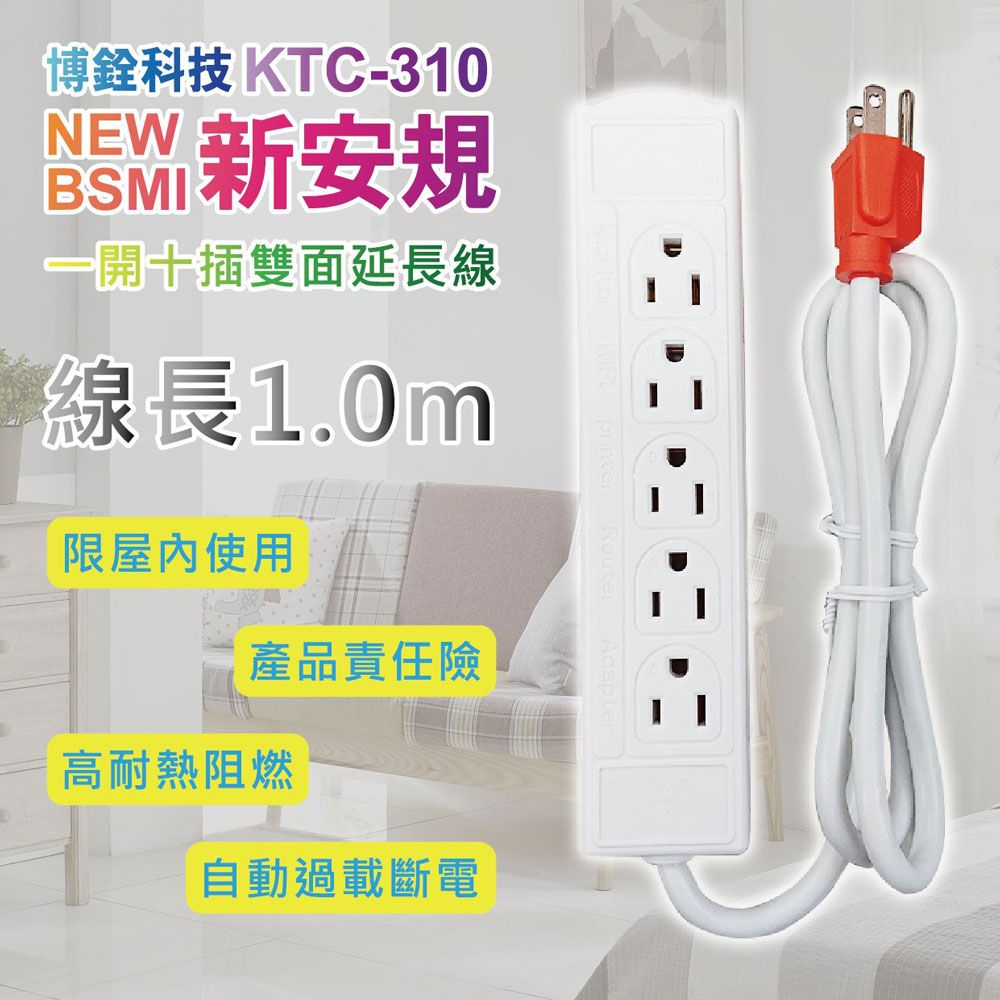socket: (577, 88, 741, 866)
